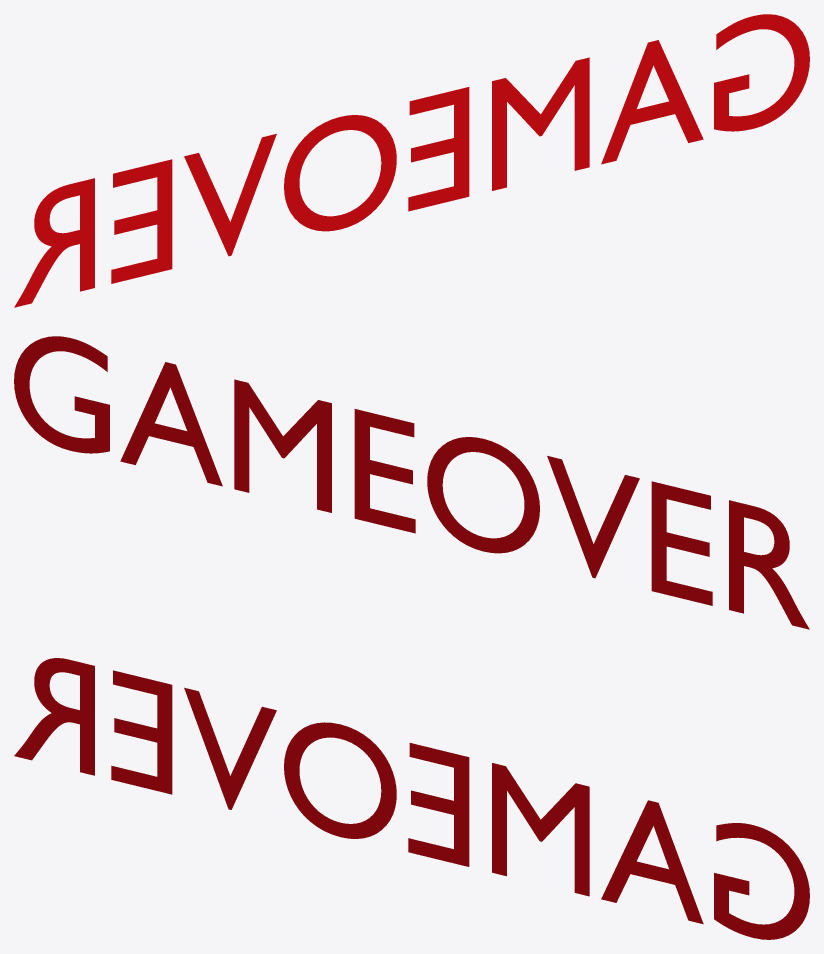
The model's file is GAMEOVER.obj.
3 renders of one model, top to bottom at view 1: azimuth 30°, elevation 25°; view 2: azimuth 150°, elevation 25°; view 3: azimuth 330°, elevation 25°, orthographic.
Parts seen in each view (by area): view 1: テキスト; view 2: テキスト; view 3: テキスト.
Part boxes in pixels (x1,y1,x2,y2): テキスト: [14, 14, 809, 307]; テキスト: [14, 336, 809, 629]; テキスト: [14, 658, 809, 939].
Size of the model in its own units: 5.17 by 0.7 by 0.
Materials: 1 (1 with a texture image).
